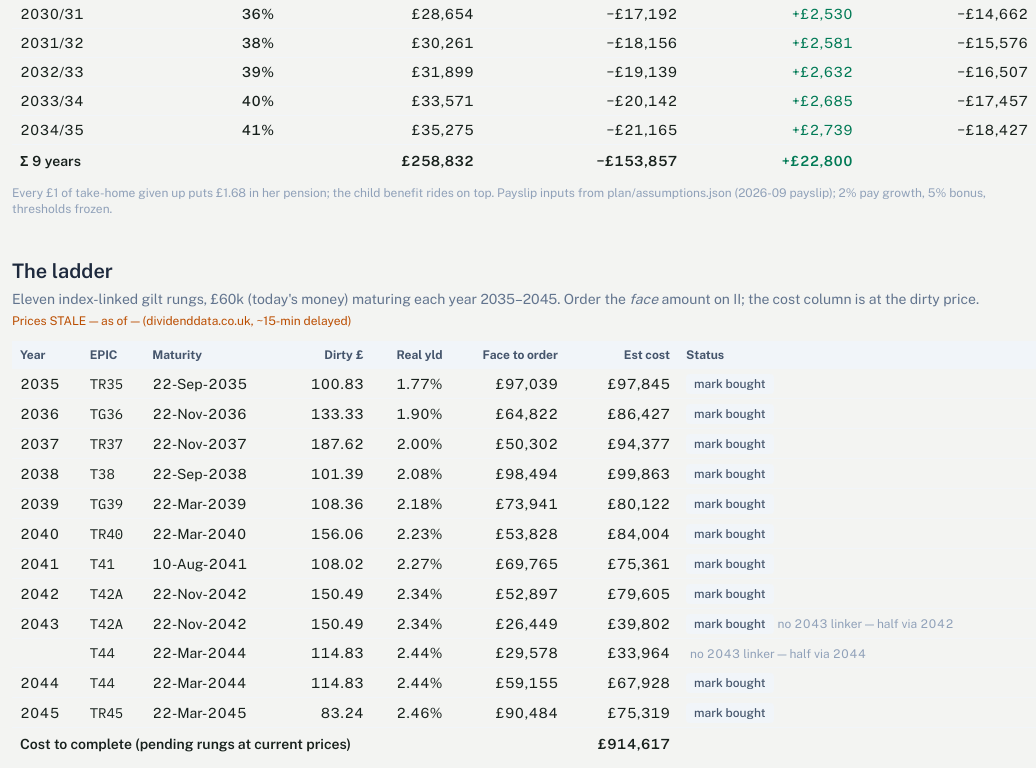
/plan page (criteria U2, F2, F3, F12, P1, E2, F7) › marking a rung bought PUTs to the rungs API (F7)
The image size is (1036, 768).
(page scrolled)
Expected: the heading "The ladder" is shown, [12,259,113,283]
Click the button with aria-label "Mark 2035 bought". click: (730, 384)
box: [686,374,774,394]
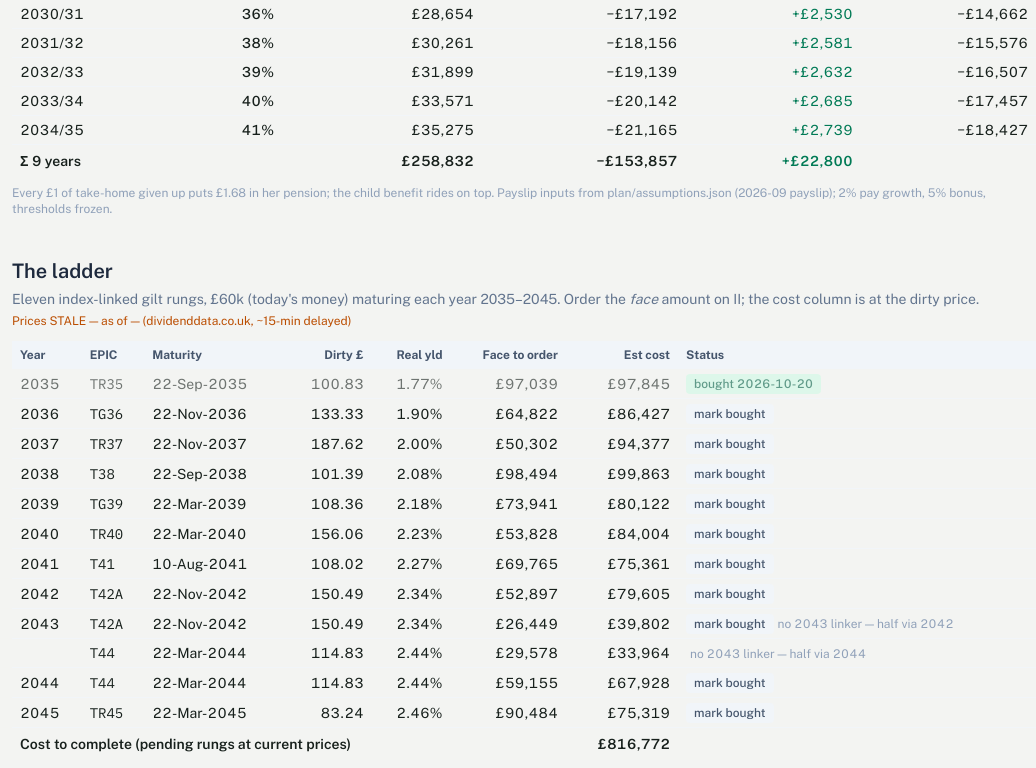
Now the button with aria-label "Mark 2035 pending" is shown, box [686,374,821,394]
